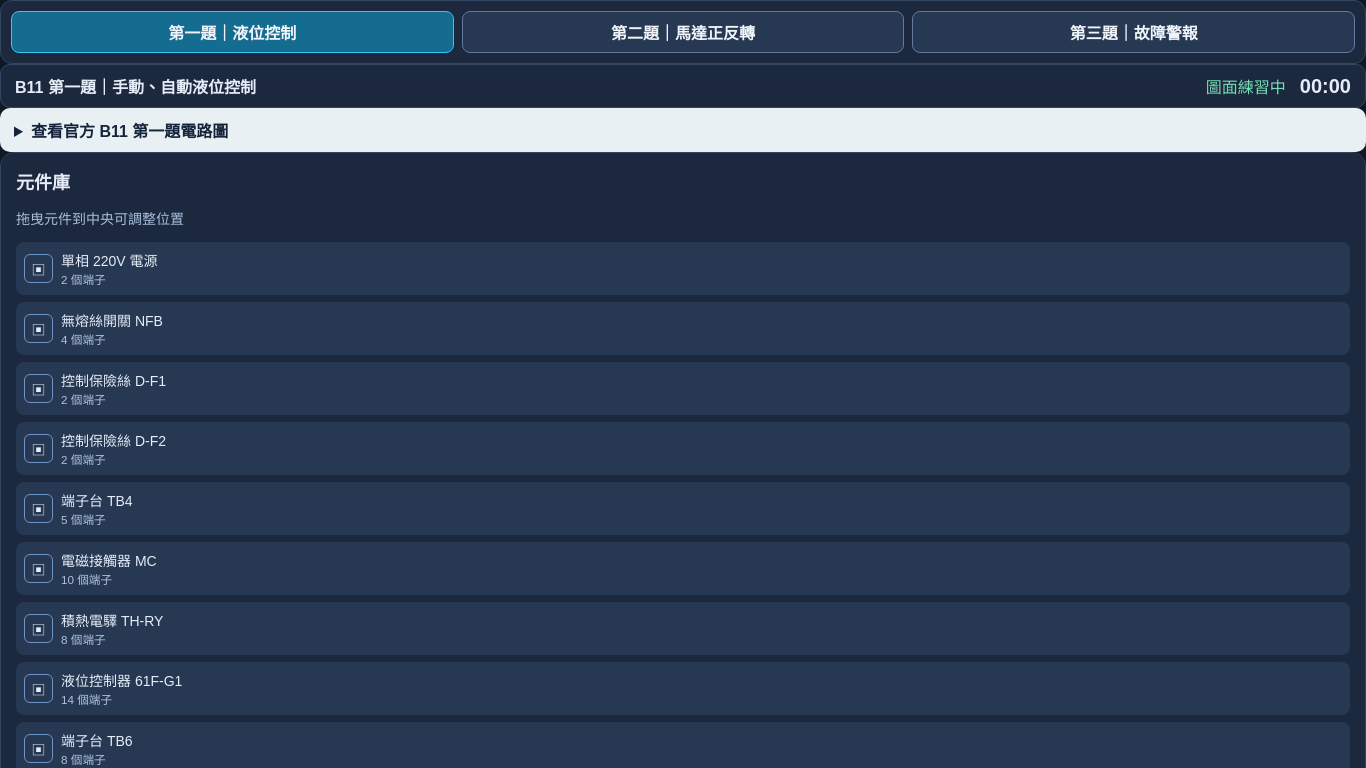
多題術科練習 › 反覆切換三次仍分別保留兩題的接線與起始時間
Earlier steps of the test are not shown.
Click the button "第二題｜馬達正反轉" at (683, 32), box [462, 11, 904, 53]
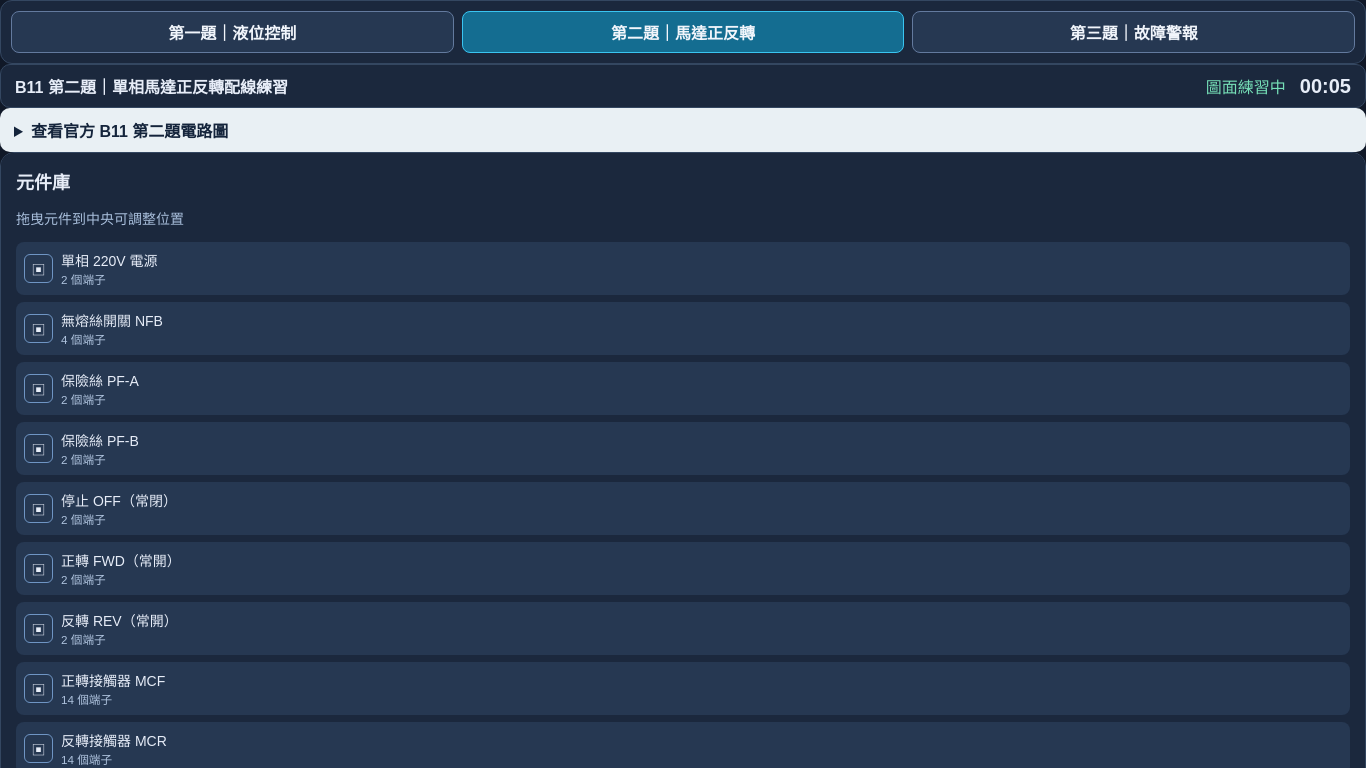
Click the button "第一題｜液位控制" at (232, 32), box [11, 11, 454, 53]
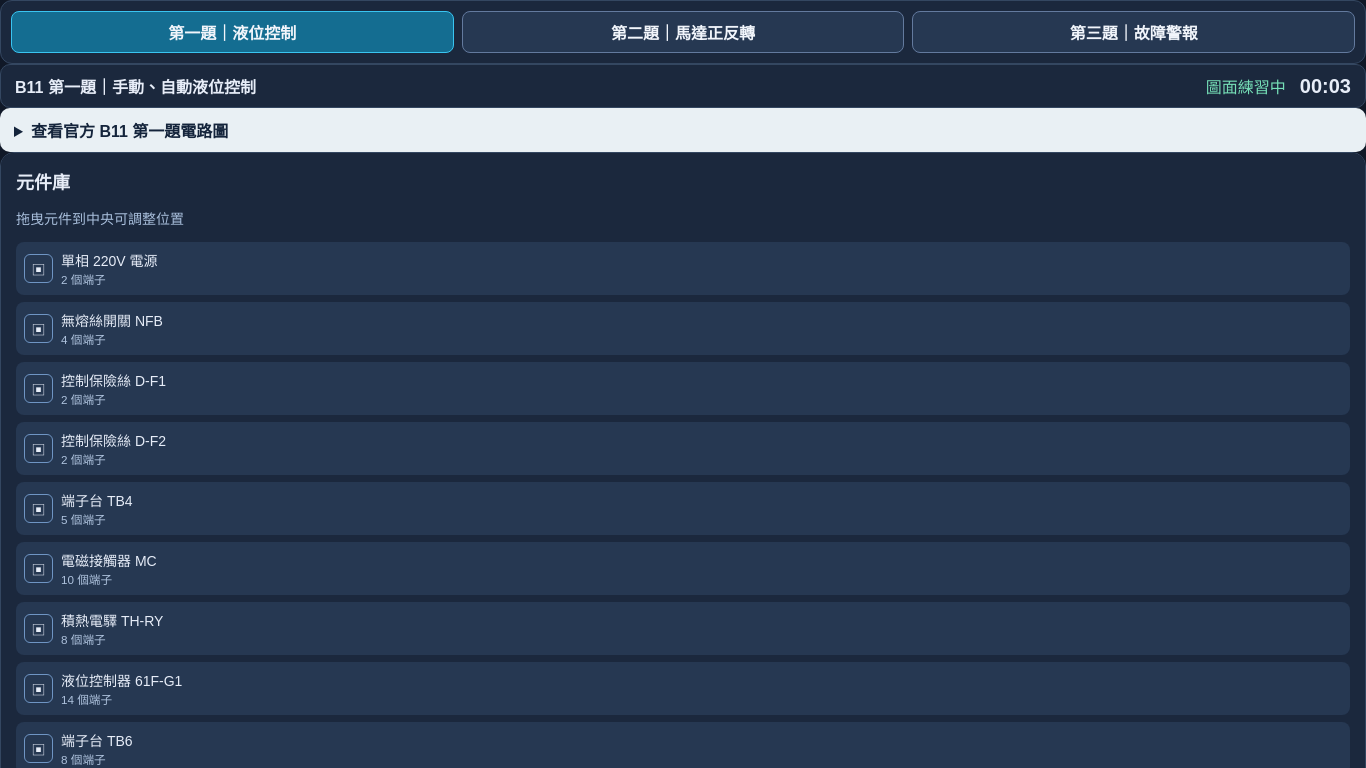
Click the button "第二題｜馬達正反轉" at (683, 32), box [462, 11, 904, 53]
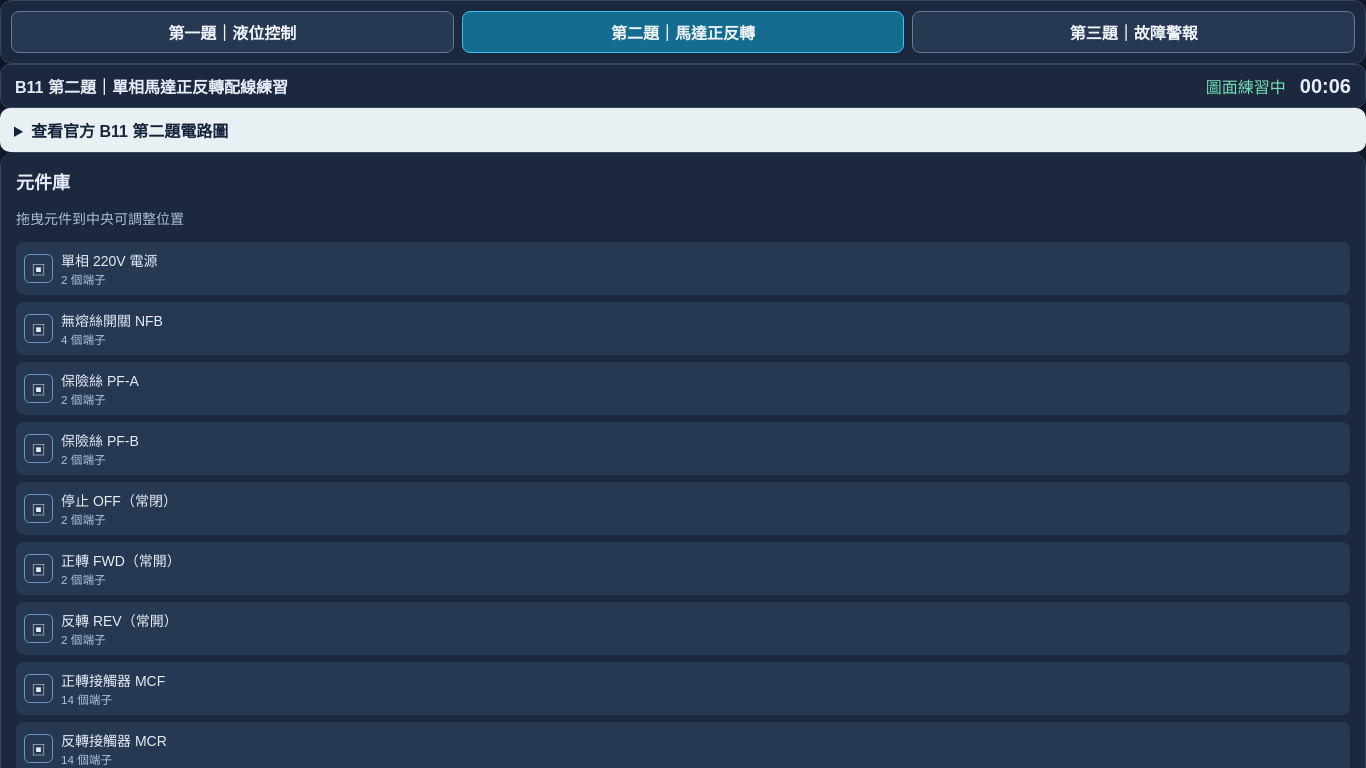
Click the button "第一題｜液位控制" at (232, 32), box [11, 11, 454, 53]
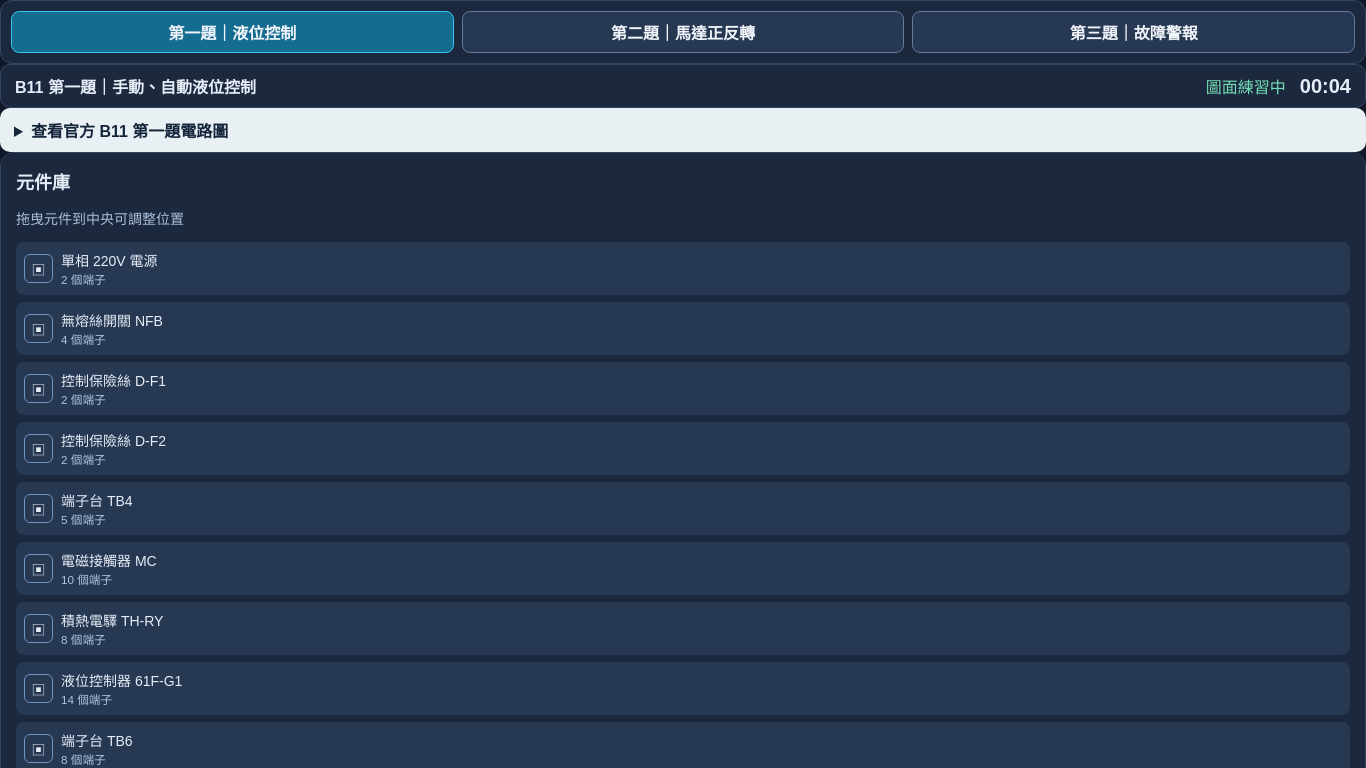
Click the button "第二題｜馬達正反轉" at (683, 32), box [462, 11, 904, 53]
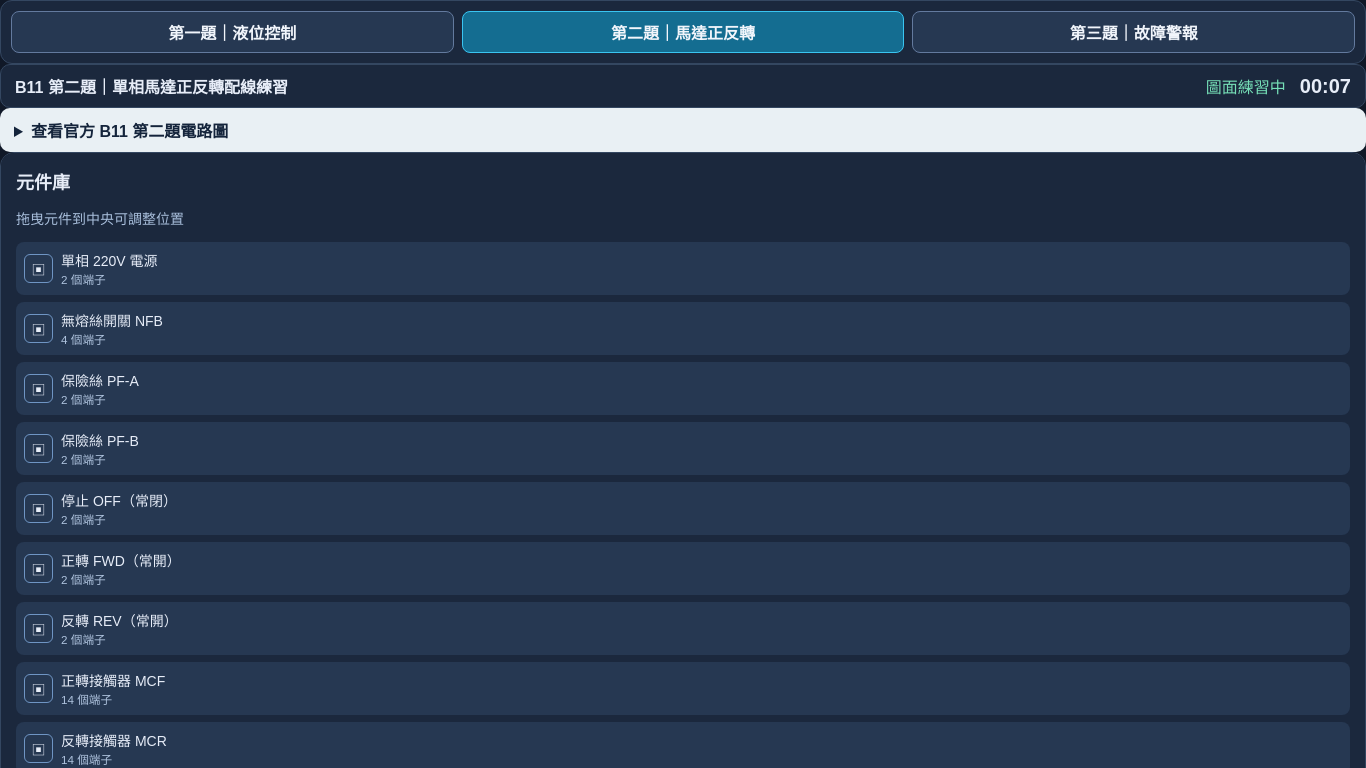
Click the button "第一題｜液位控制" at (232, 32), box [11, 11, 454, 53]
(page scrolled)
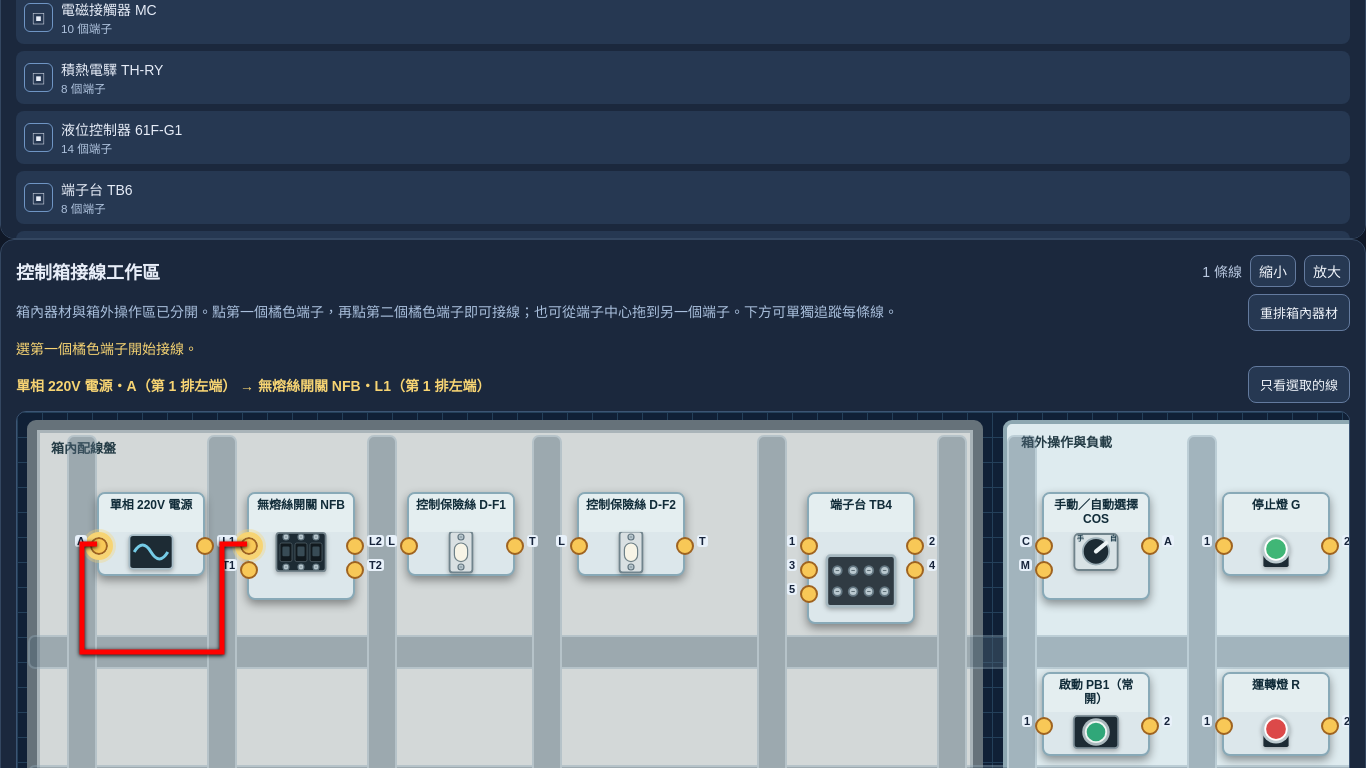
Result: the text "1 條線" is shown at [1202, 261, 1242, 281]
Result: the text "單相 220V 電源・A（第 1 排左端） → 無熔絲開關 NFB・L1（第 1 排左端）" is shown at [16, 378, 490, 394]
